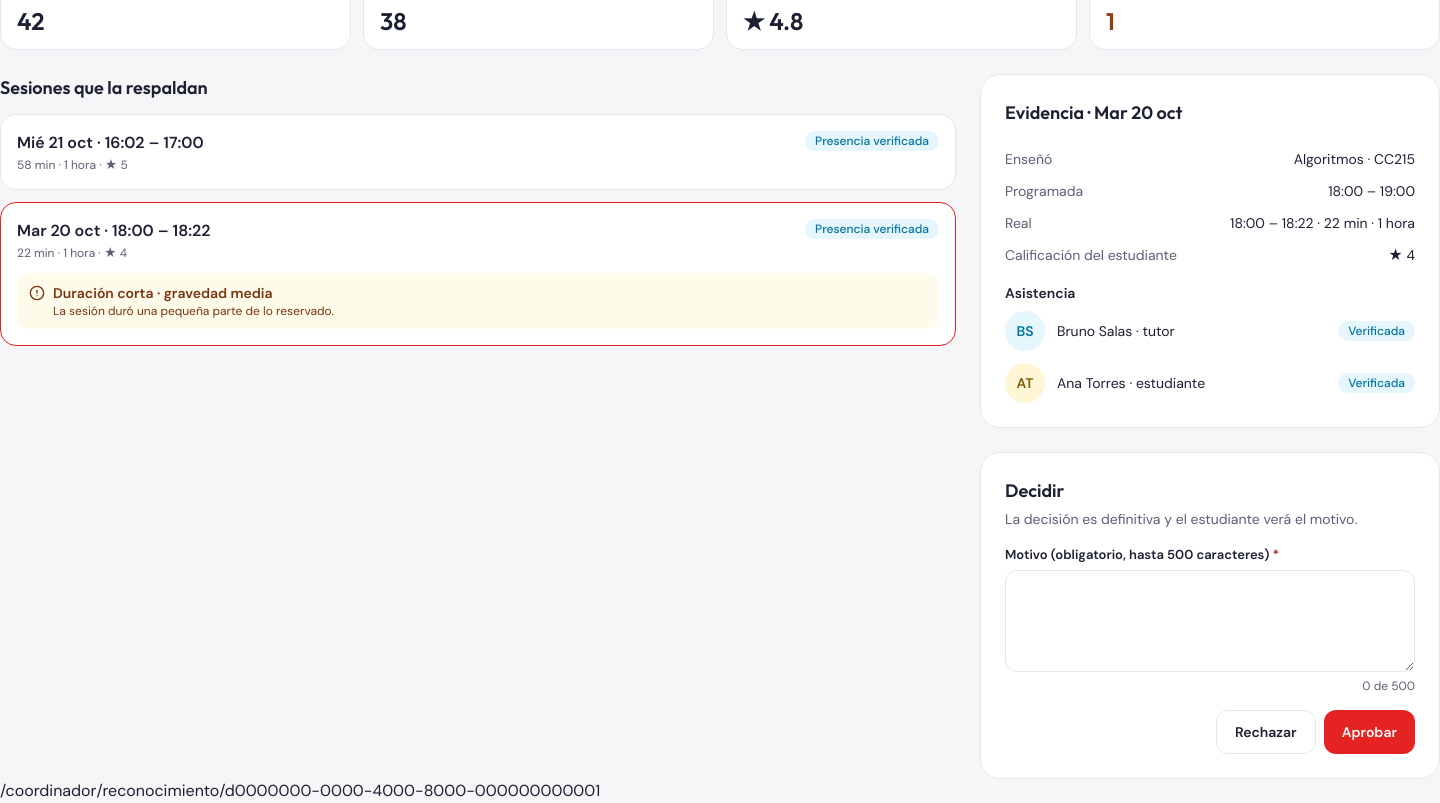
Test: FE-51 deciding a recognition case › sends nothing when the coordinator cancels the confirmation
(page scrolled)
Type "Cumple." into the text box at (1210, 621), box [1005,570,1415,672]
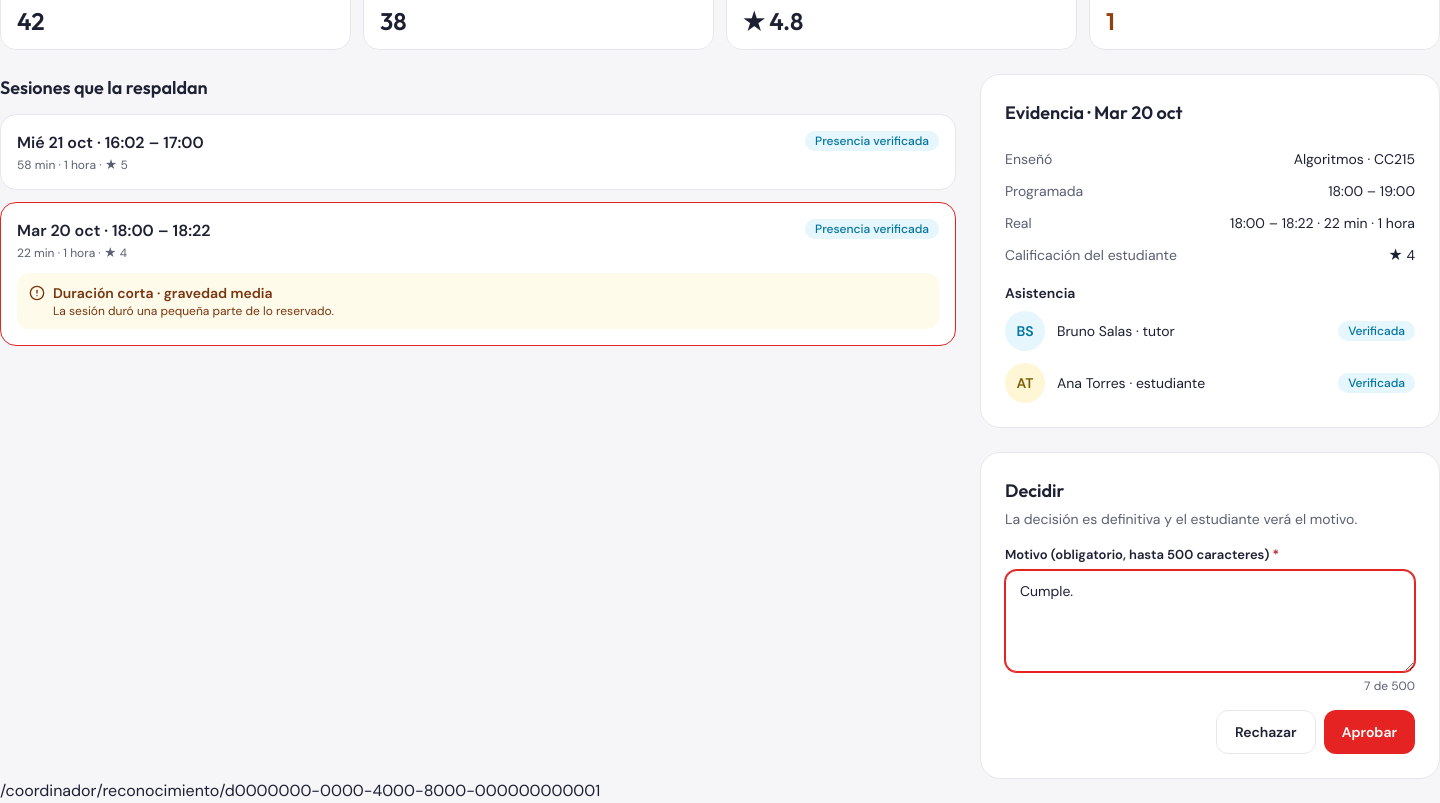
Click the button "Aprobar" at (1369, 732), box [1324,710,1415,754]
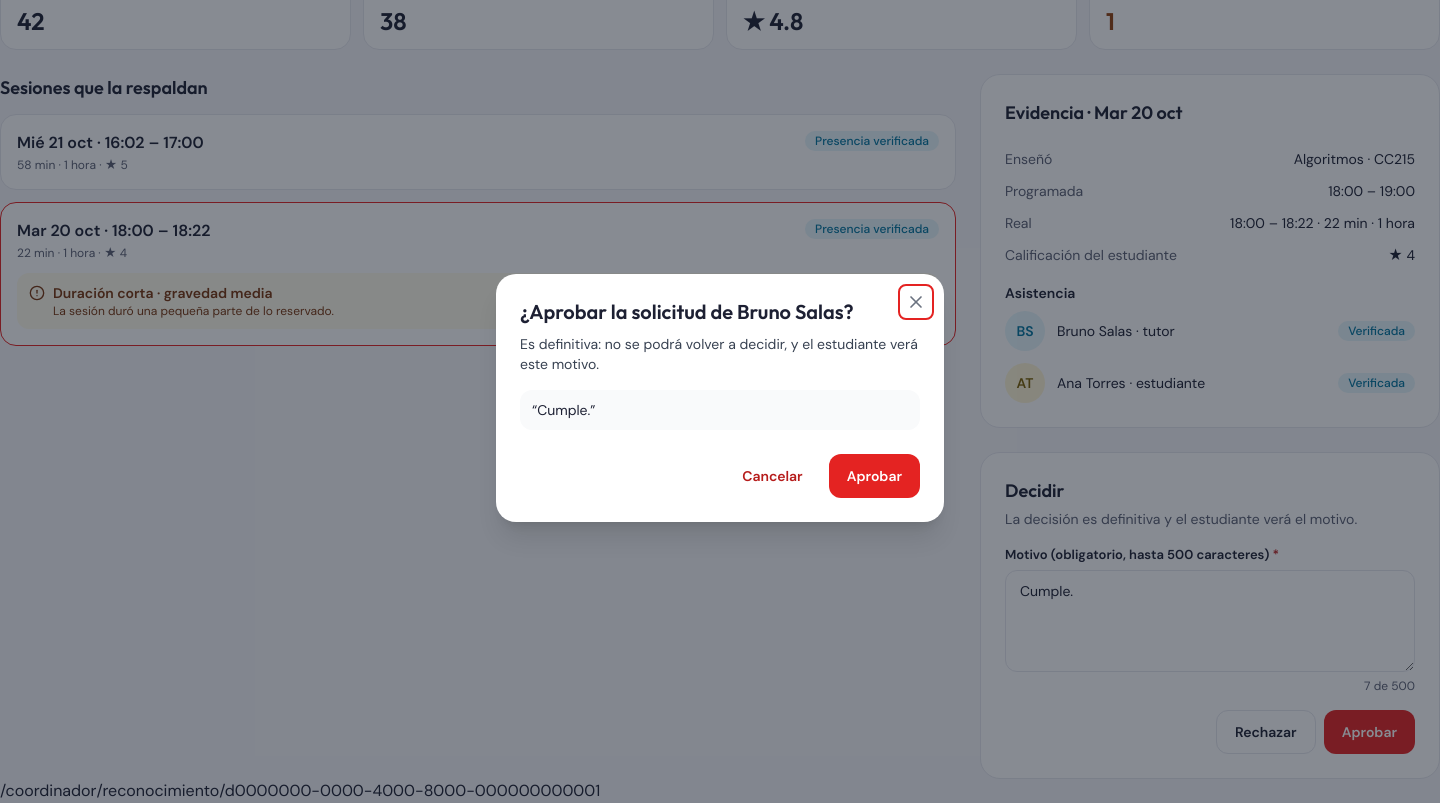
Click the button "Cancelar" at (772, 476), box [724,454,821,498]
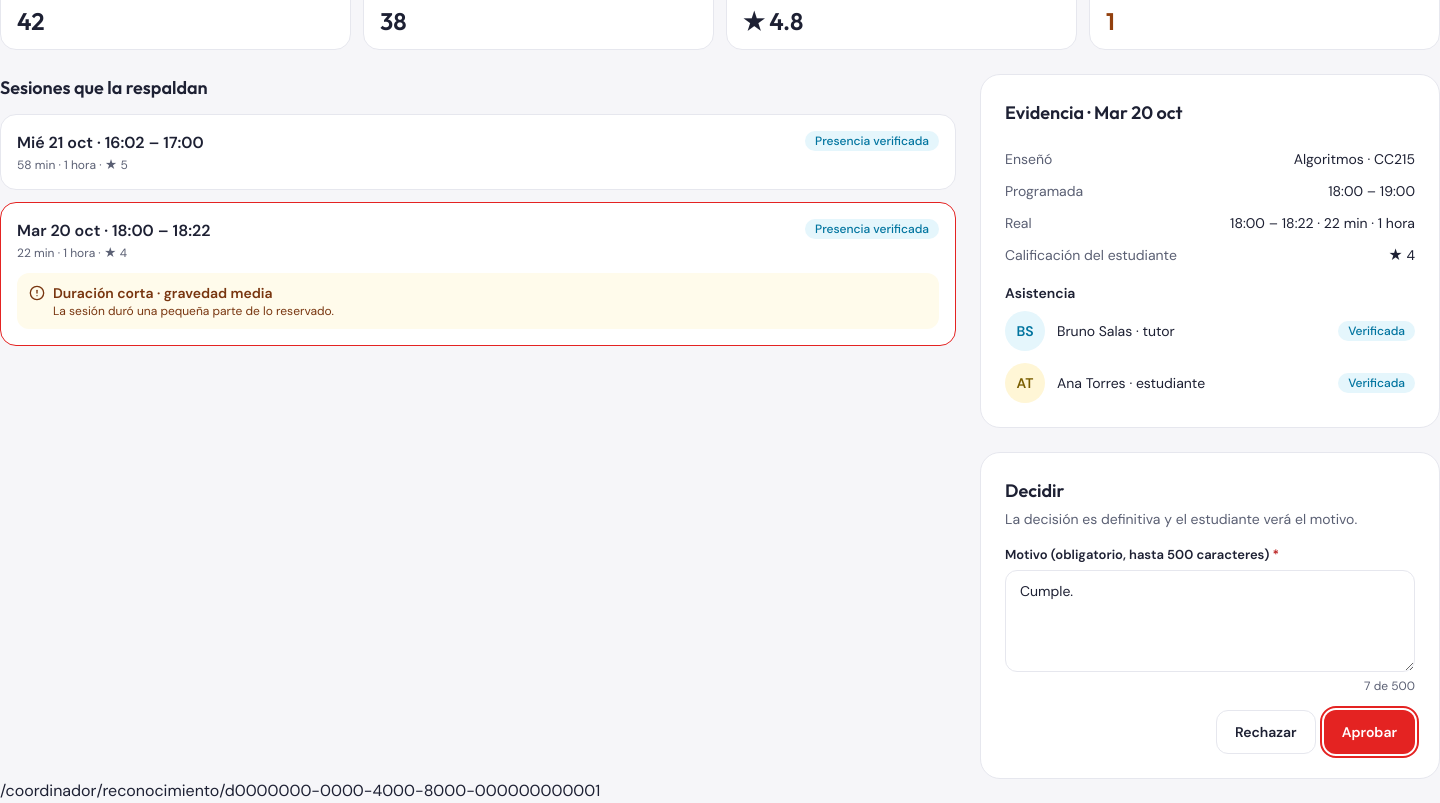
Now the dialog is gone
